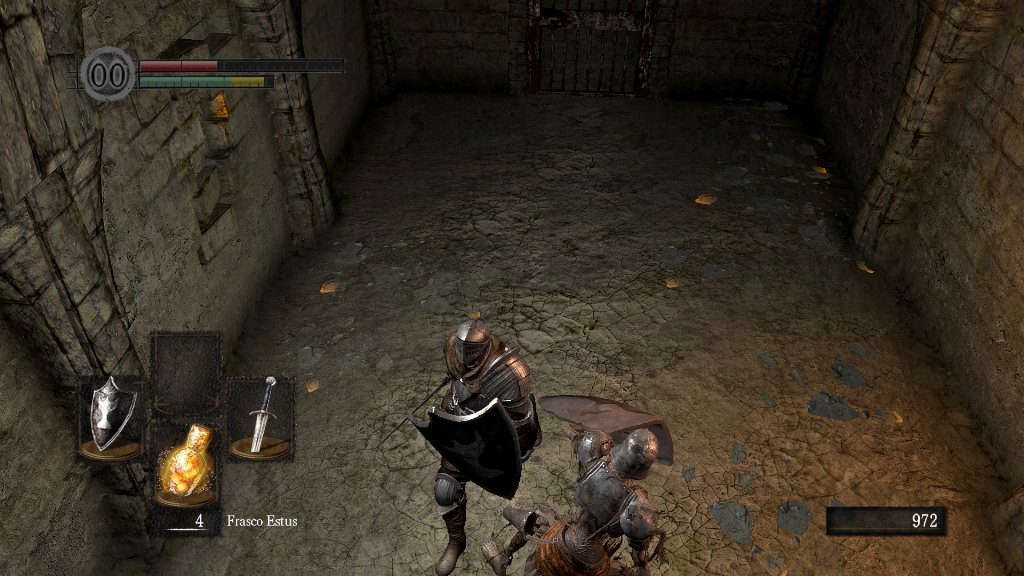health: (138, 58, 343, 71)
humanity: (80, 45, 136, 102)
player: (382, 319, 543, 576)
souls: (825, 506, 945, 536)
stamina: (138, 74, 274, 88)
undeadSoldier: (480, 426, 659, 576)
